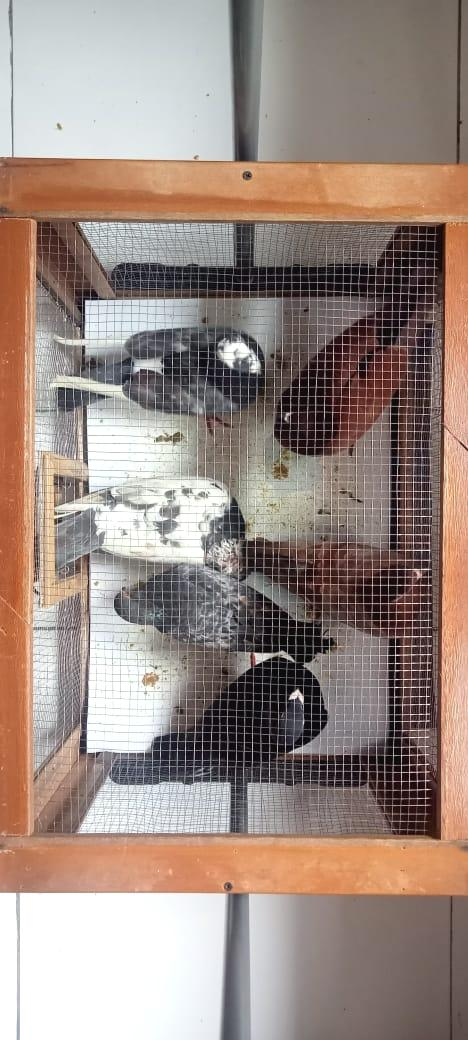Merpati: (273, 267, 437, 455), (149, 657, 330, 776), (112, 565, 323, 662), (53, 474, 247, 579), (51, 325, 267, 417), (250, 536, 430, 638)
